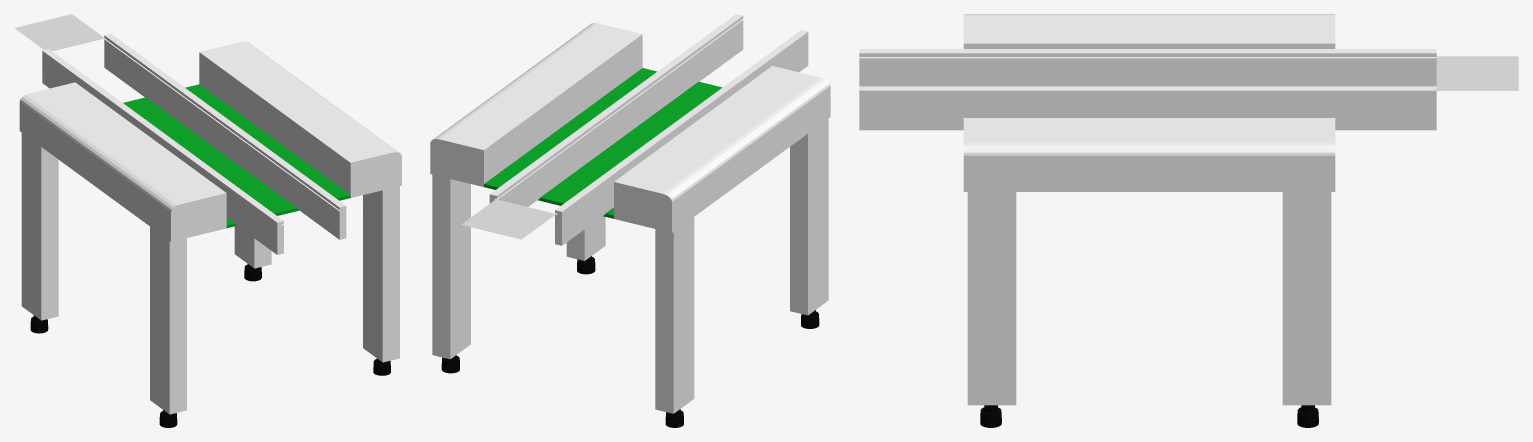
The model's file is conveyor-pcbloader1.glb.
The picture shows the model from 3 angles, left to right: view 1: azimuth 30°, elevation 25°; view 2: azimuth 150°, elevation 25°; view 3: azimuth 270°, elevation 25°; orthographic projection. The views are drawn at different scales.
Visible parts, largest first — view 1: Plane, Plane.001, Cube.001, Cube, Plane.002; view 2: Plane, Plane.001, Cube.001, Cube, Plane.002; view 3: Plane, Plane.001, Cube, Cube.001, Plane.002.
Part boxes in pixels (box(x1,y1,x2,y2)): Plane: box(19, 41, 401, 241); Plane.001: box(21, 133, 399, 427); Cube.001: box(104, 34, 346, 239); Cube: box(42, 49, 283, 254); Plane.002: box(14, 14, 104, 51); Plane: box(430, 23, 830, 232); Plane.001: box(432, 119, 828, 427); Cube.001: box(489, 14, 743, 206); Cube: box(555, 30, 808, 245); Plane.002: box(461, 199, 555, 239); Plane: box(963, 14, 1335, 191); Plane.001: box(967, 192, 1331, 427); Cube: box(859, 49, 1436, 86); Cube.001: box(859, 86, 1436, 130); Plane.002: box(1436, 56, 1518, 90).
Bounding box in the file's own units: 3.29 × 3.11 × 6.64.
